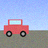vehicle: (4, 20, 29, 37)
